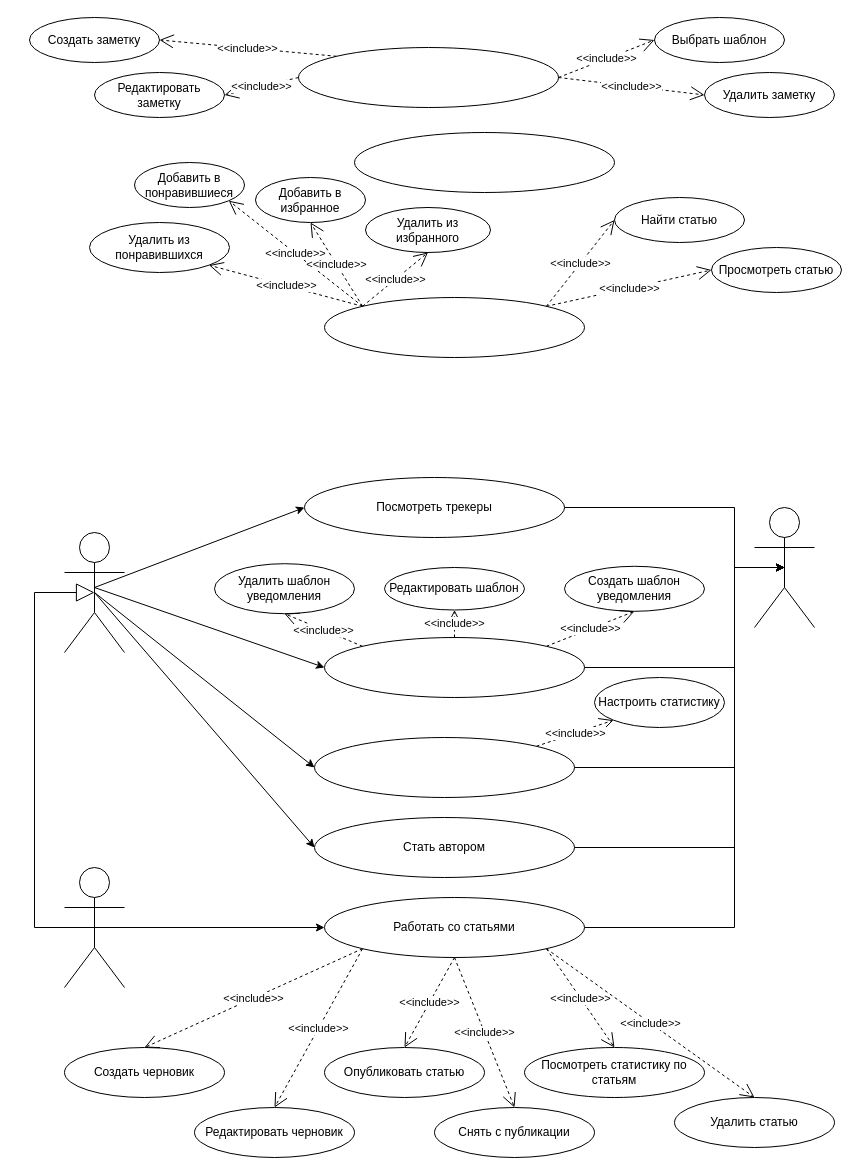
The diagram is 859 pixels wide and 1175 high, and some of its shapes have lost their labels. Each missing label, with the box of its shape:
Автор: (64, 866, 124, 988)
Настроить уведомления: (324, 636, 584, 698)
Пользователь: (64, 532, 124, 652)
Посмотреть заметки: (298, 46, 558, 108)
Посмотреть статистику: (314, 736, 574, 798)
Посмотреть статьи: (324, 296, 584, 358)
Посмотреть цели: (354, 132, 614, 192)
Система: (754, 506, 814, 628)
